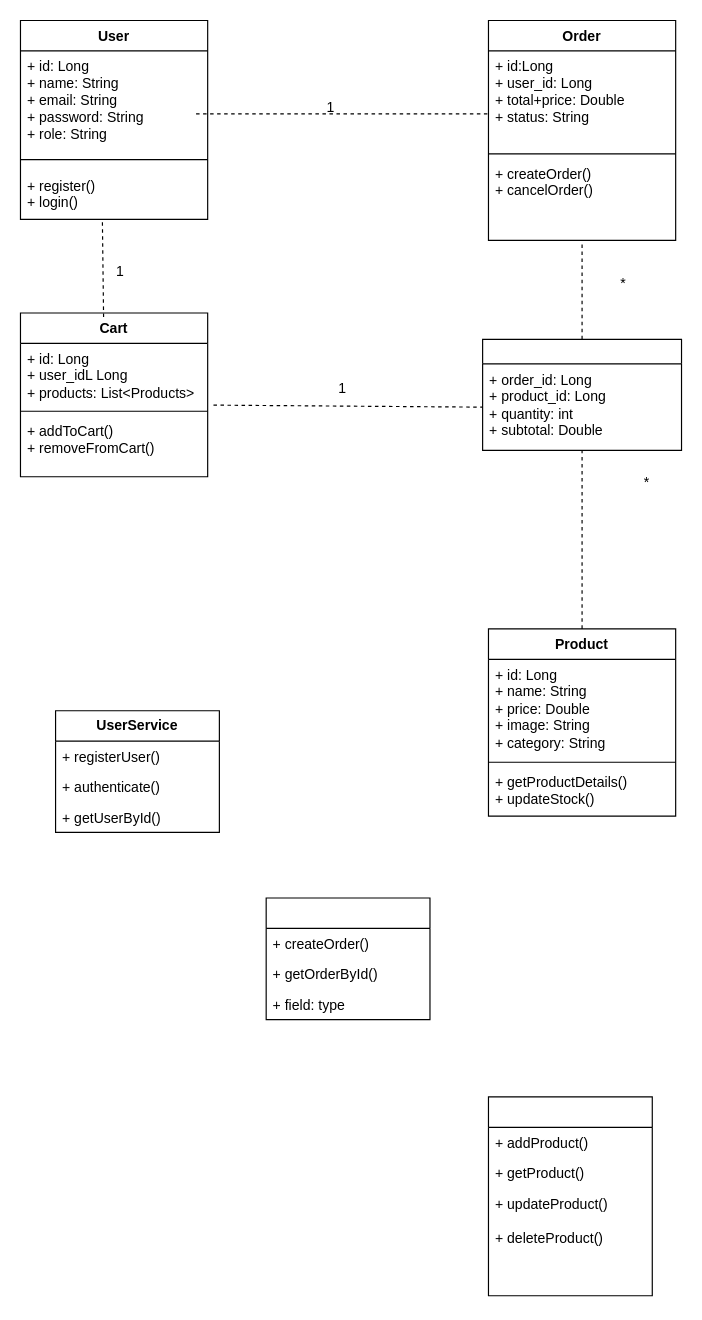
The diagram is 702 pixels wide and 1320 high, and some of its shapes have lost their labels. Each missing label, with the box of its shape:
OrderItem: (481, 338, 682, 450)
OrderService: (265, 897, 430, 1020)
ProductService: (487, 1096, 652, 1296)
